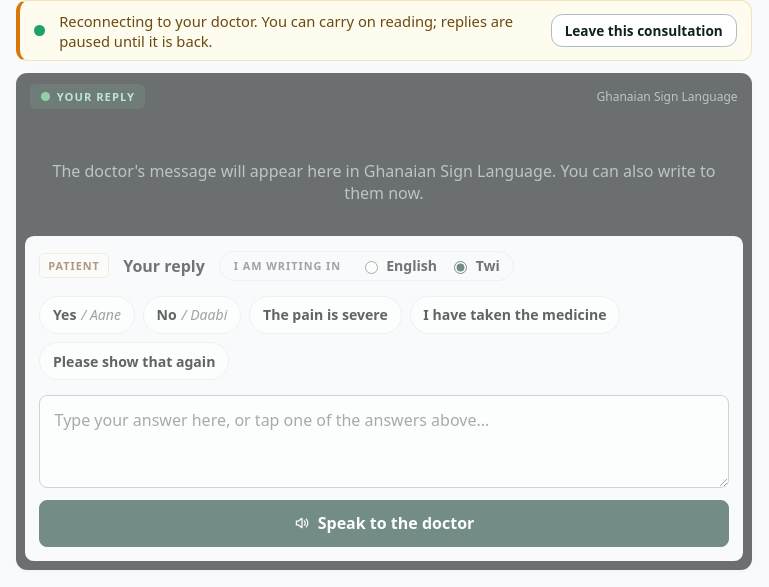
Scenario: a reload in the middle of a consultation › lets the patient give up, and lands on the code box with nothing kept
Click the button with test id "leave-consultation": click(644, 31) 551,14 -> 737,48
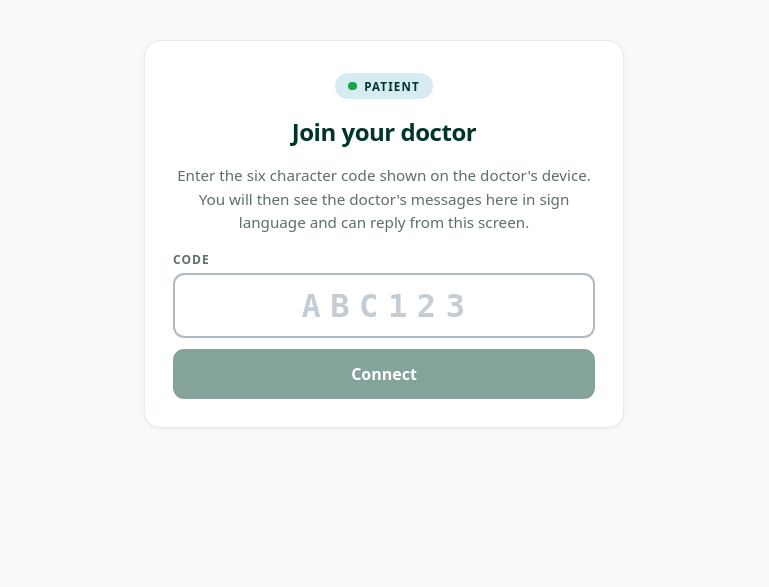
Expected: the element with test id "pairing-join-form" is shown, 144,40 -> 624,428
